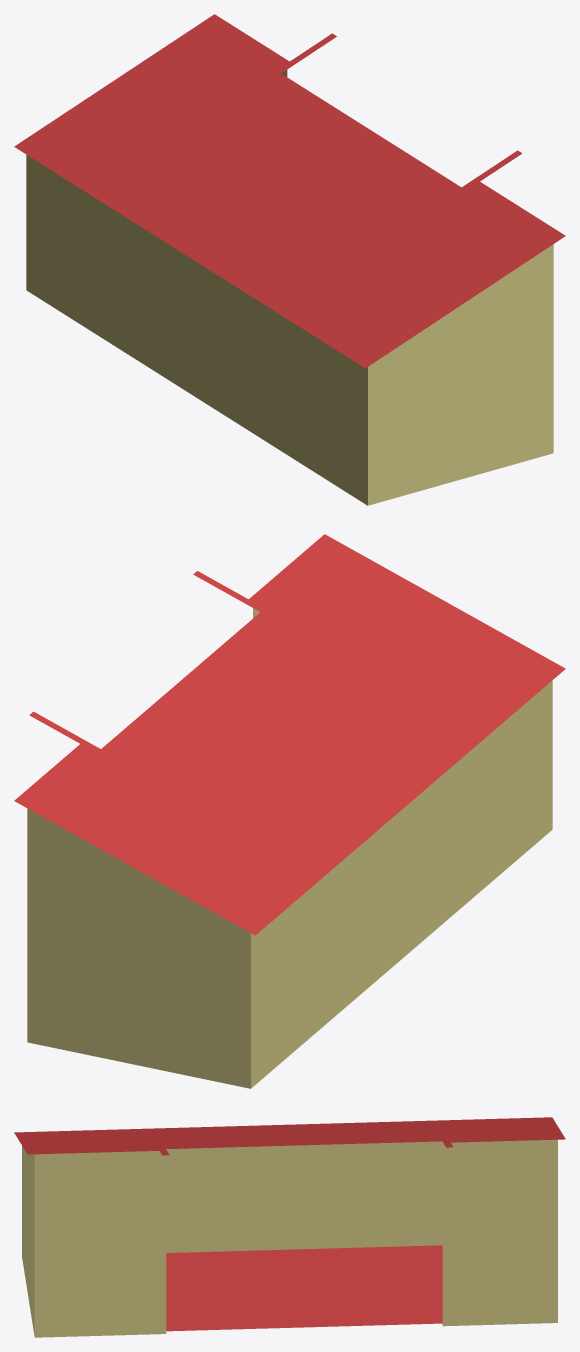
3 views of the same model, one above another, from view 1: azimuth 30°, elevation 25°; view 2: azimuth 150°, elevation 25°; view 3: azimuth 270°, elevation 25° (orthographic). The views are drawn at different scales.
Bounding box in the file's own units: 9.15 × 18.27 × 7.32.
